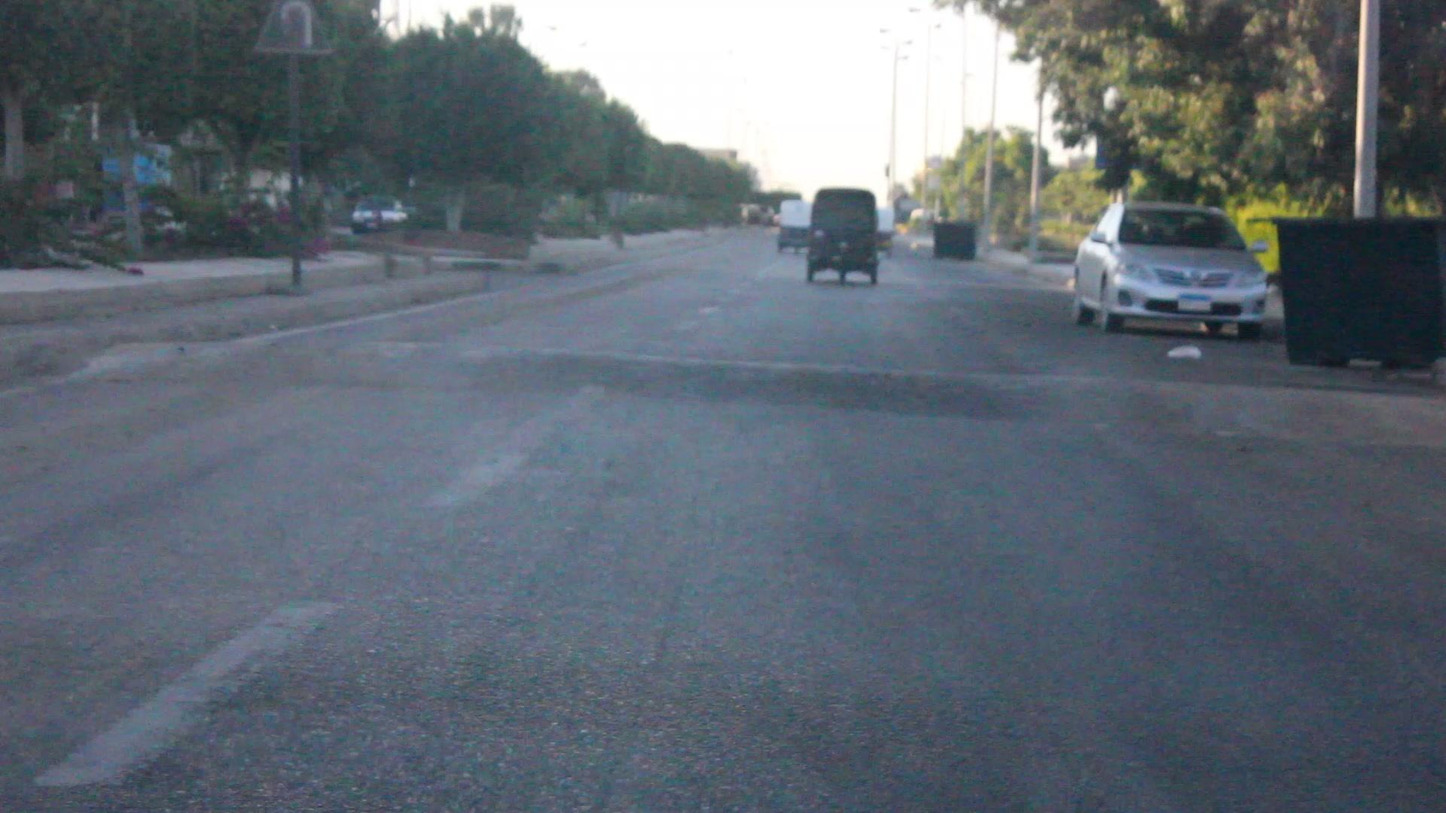Bump: (64, 329, 1445, 454)
